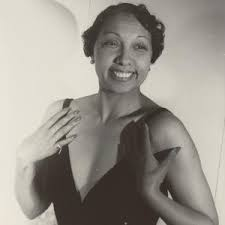black_female: (79, 3, 168, 105)
